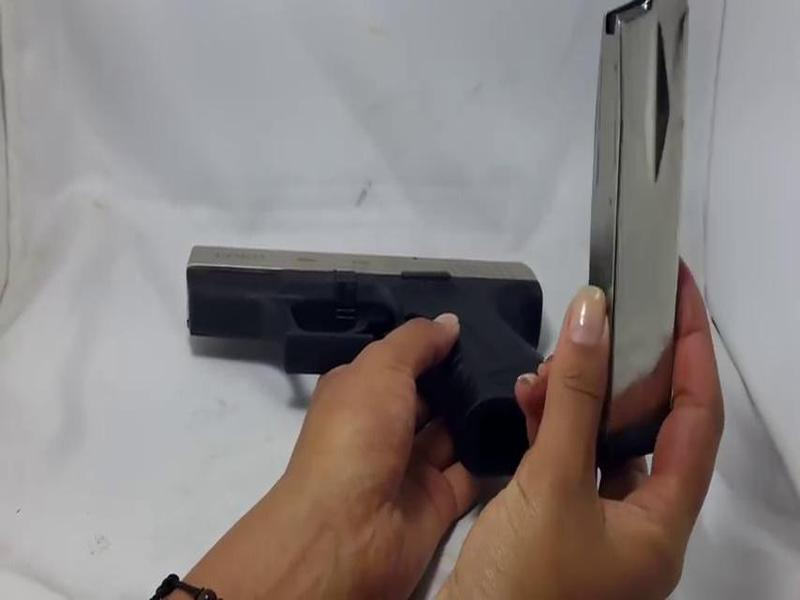Pistola: (168, 230, 584, 455)
